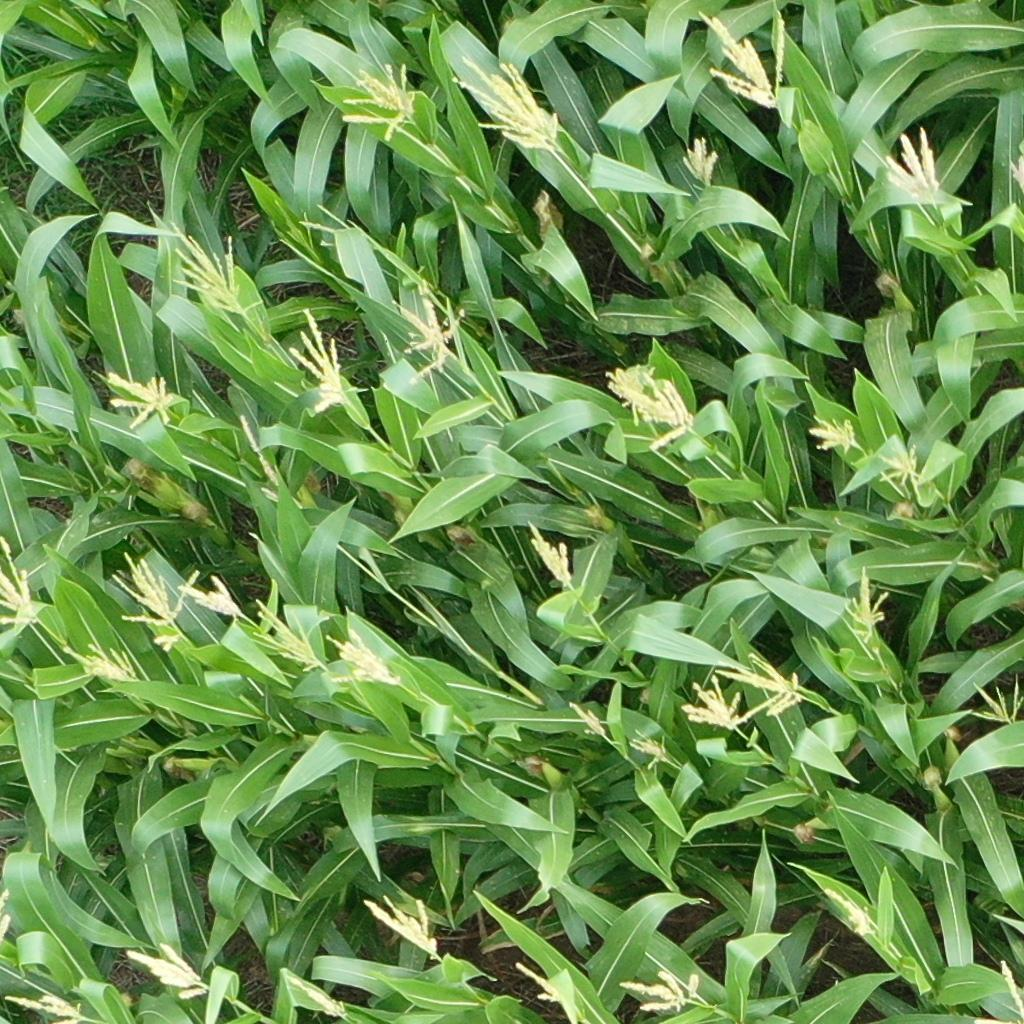Tassel: (452, 56, 565, 154), (695, 1, 791, 107), (386, 277, 475, 389), (166, 221, 265, 317), (110, 552, 201, 655), (286, 307, 362, 419), (340, 61, 419, 141), (619, 371, 696, 451), (248, 598, 326, 676), (121, 936, 213, 1000), (715, 651, 806, 714), (678, 672, 775, 731), (323, 626, 406, 694), (359, 893, 442, 958), (884, 127, 944, 210), (105, 368, 179, 431), (54, 636, 141, 688), (523, 520, 582, 593), (835, 567, 890, 644), (617, 968, 703, 1013), (1, 535, 42, 626), (968, 958, 1024, 1024), (281, 968, 350, 1019), (176, 570, 244, 620), (605, 363, 658, 427), (3, 991, 99, 1024), (964, 673, 1024, 725), (824, 888, 878, 939), (297, 201, 354, 249), (807, 414, 865, 456), (274, 198, 316, 255), (519, 961, 570, 1007), (877, 444, 927, 488), (626, 726, 673, 770), (678, 135, 719, 180), (568, 700, 610, 739), (1007, 155, 1024, 191)
